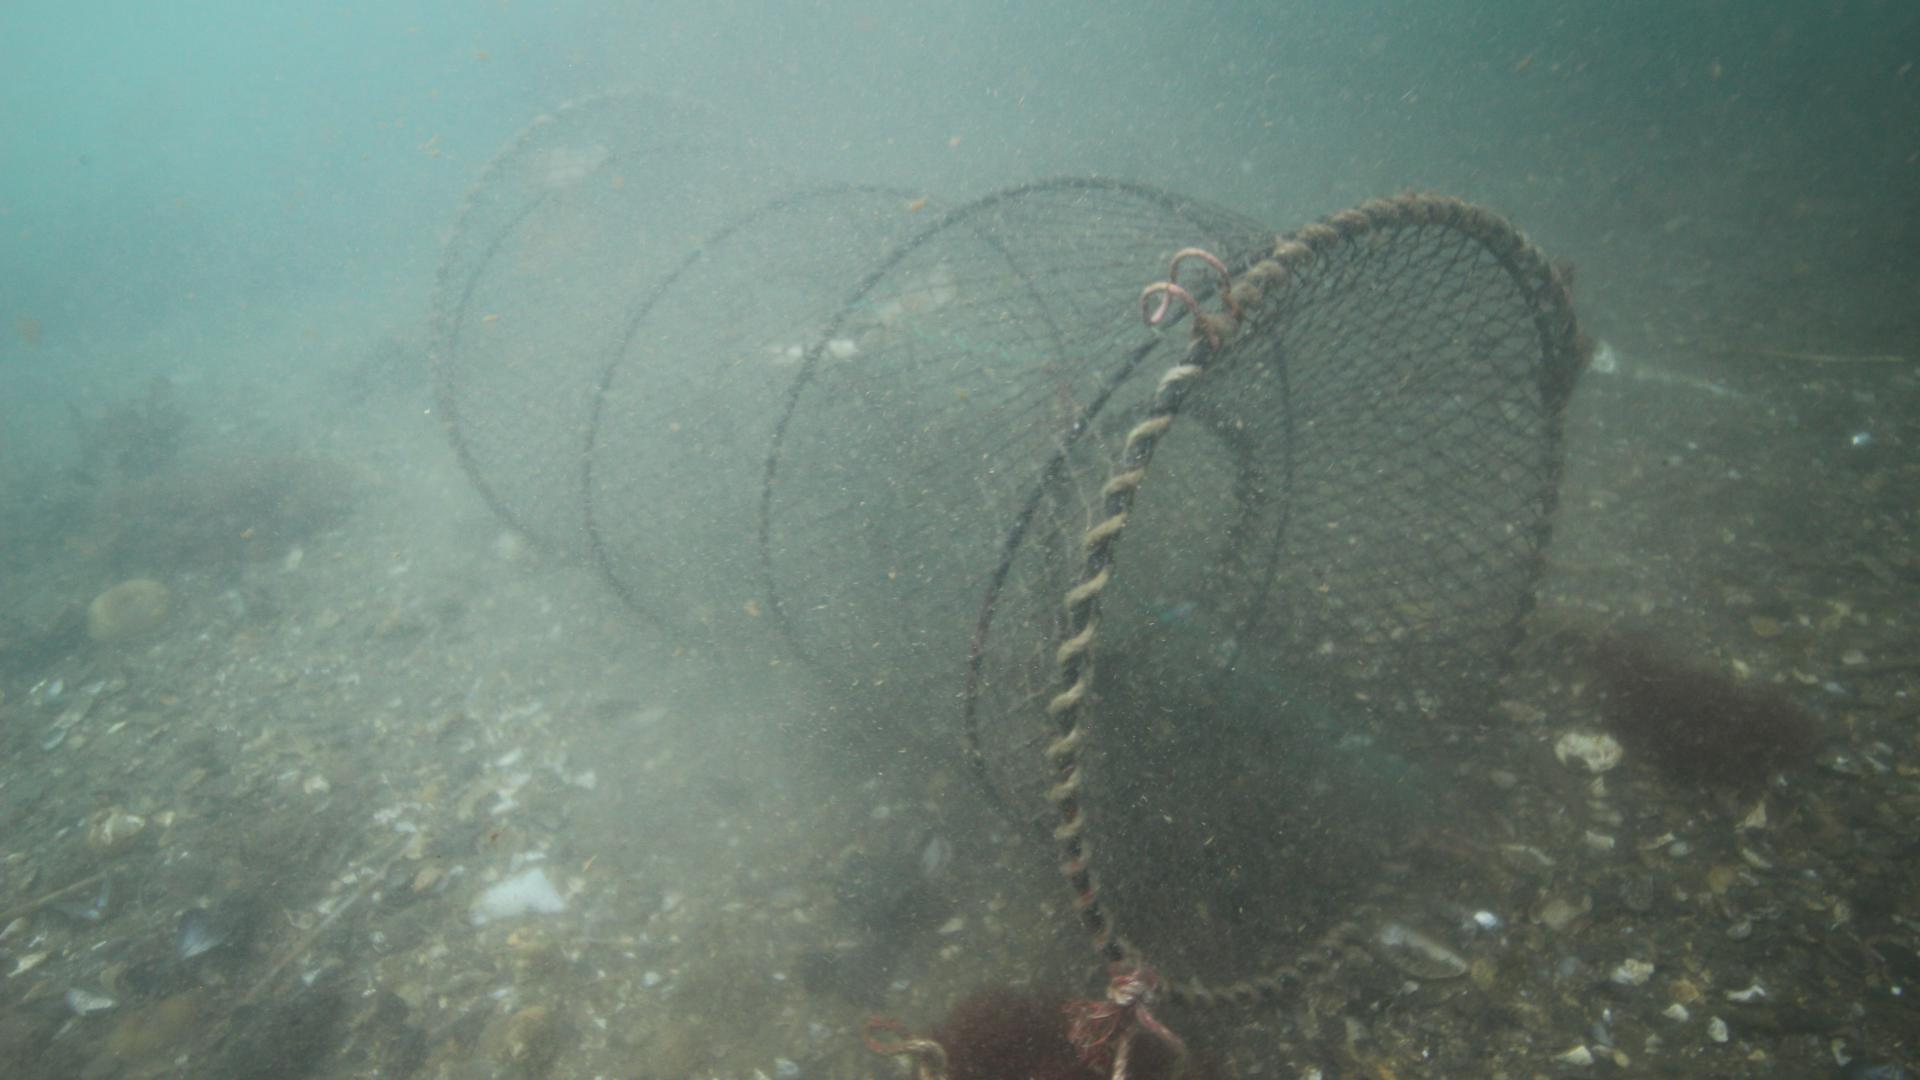spring fish trap: (429, 83, 1575, 1010)
